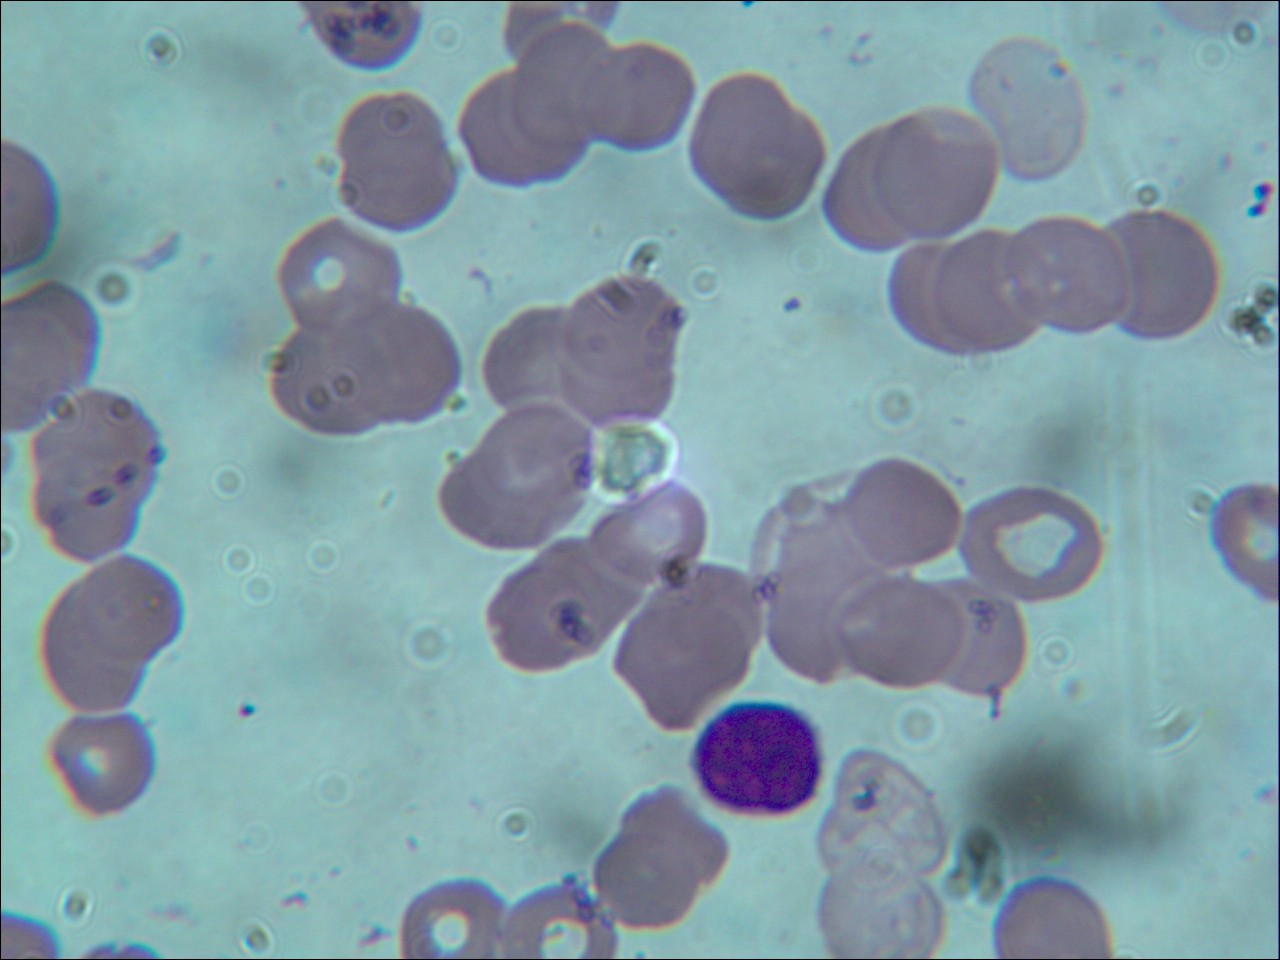Eritrosit: (686, 72, 831, 225), (477, 535, 627, 671), (955, 481, 1106, 605), (968, 39, 1092, 183), (339, 296, 465, 434), (1100, 208, 1221, 343), (834, 569, 965, 692), (818, 750, 948, 872), (878, 111, 1000, 239), (459, 68, 586, 190), (509, 21, 628, 150), (614, 614, 746, 730), (1000, 218, 1128, 336), (820, 128, 939, 253), (34, 387, 162, 503), (258, 322, 386, 437), (437, 450, 584, 550), (652, 556, 767, 677), (275, 215, 402, 324), (934, 231, 1048, 350), (620, 786, 733, 903), (921, 577, 1028, 700), (842, 458, 961, 568), (42, 584, 145, 711), (583, 42, 696, 153), (546, 347, 680, 439), (328, 140, 456, 236), (562, 275, 681, 378), (480, 308, 593, 415), (42, 714, 156, 819), (73, 558, 183, 664), (27, 456, 142, 558), (817, 869, 945, 960), (881, 244, 987, 353), (590, 486, 708, 583), (478, 402, 592, 502), (990, 871, 1111, 960), (2, 281, 99, 390), (592, 836, 699, 930), (339, 92, 445, 181), (502, 886, 618, 960), (398, 881, 505, 960)
Limfoblast: (692, 702, 827, 814)
Platelet: (233, 690, 268, 734), (1239, 197, 1273, 233), (1240, 177, 1280, 205), (778, 297, 802, 324)
